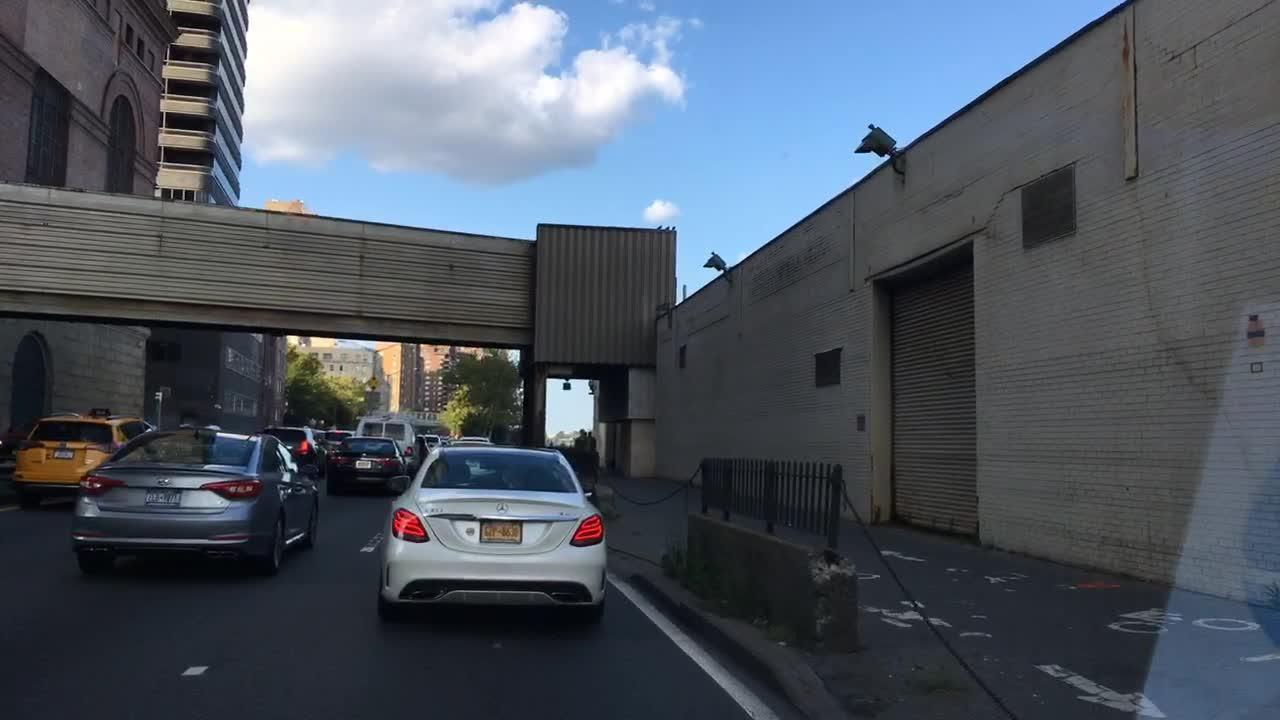Mazda: (152, 470, 175, 487)
Mercedes: (495, 501, 510, 516)
